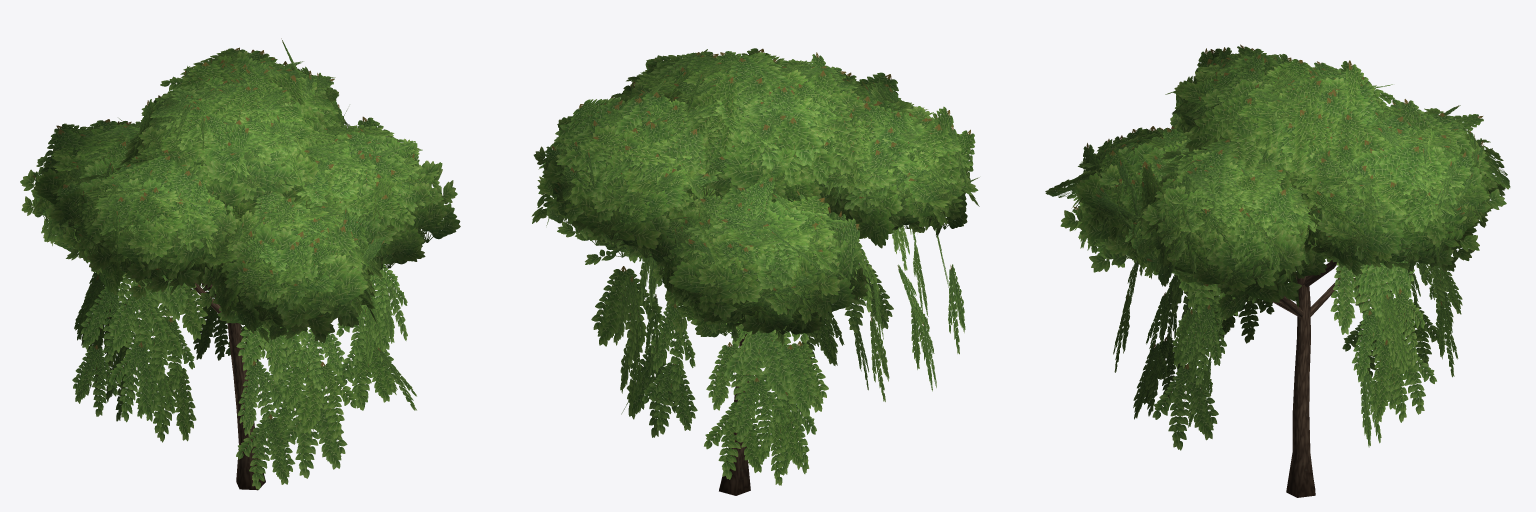
File: keora_a_lod1.glb
3 renders of one model, left to right at view 1: azimuth 30°, elevation 25°; view 2: azimuth 150°, elevation 25°; view 3: azimuth 270°, elevation 25°, orthographic. The views are drawn at different scales.
Parts seen in each view (by area): view 1: leaves, wood; view 2: leaves, wood; view 3: leaves, wood.
Part boxes in pixels (x1,y1,x2,y2): leaves: (20, 38, 460, 489); wood: (194, 280, 265, 490); leaves: (531, 48, 979, 485); wood: (719, 334, 750, 495); leaves: (1045, 44, 1510, 450); wood: (1272, 260, 1345, 497).
Size of the model in its own units: 7.51 by 8.2 by 8.52.
Materials: 2 (2 with a texture image).
